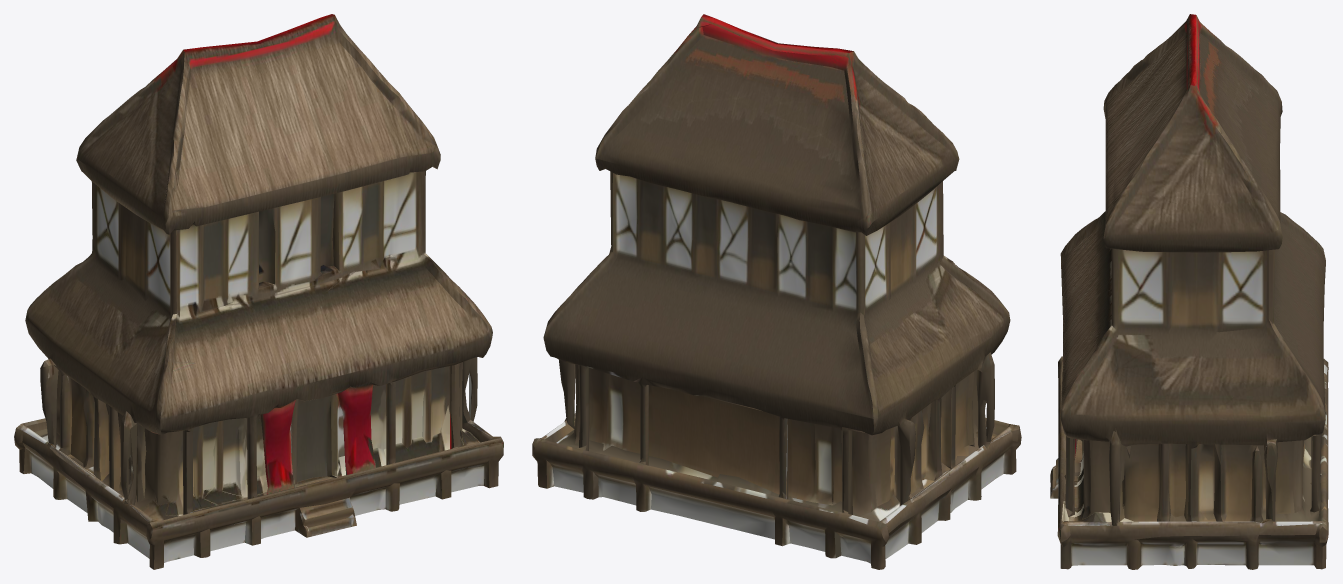
Rendered from palmares_quilombo_central.glb.
The picture shows the model from 3 angles, left to right: view 1: azimuth 30°, elevation 25°; view 2: azimuth 150°, elevation 25°; view 3: azimuth 270°, elevation 25°; orthographic projection. The views are drawn at different scales.
Visible parts, largest first — view 1: geometry_0; view 2: geometry_0; view 3: geometry_0.
Part boxes in pixels (x1,y1,x2,y2): geometry_0: [14, 14, 503, 569]; geometry_0: [532, 14, 1021, 569]; geometry_0: [1050, 14, 1328, 569].
Bounding box in the file's own units: 3.4 × 4.08 × 2.35.
1 material, 1 textured.
